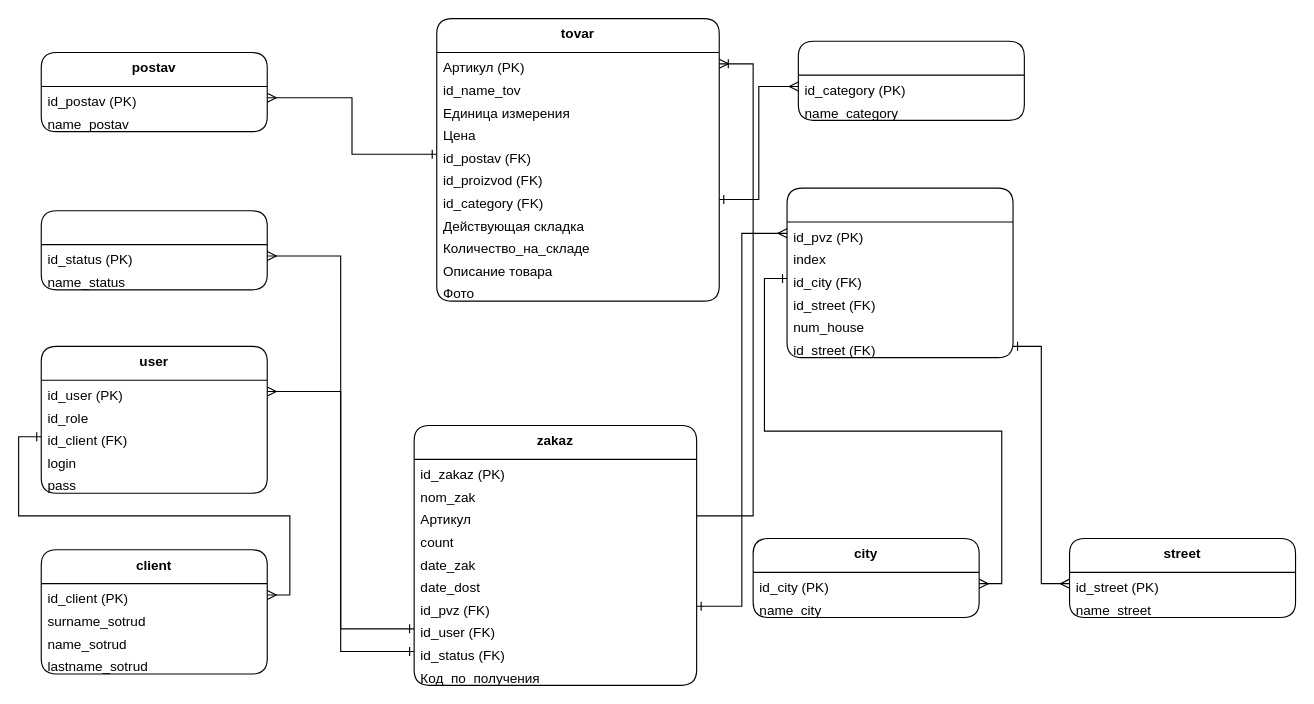
This 1314x704 diagram has some shape labels left out. Here are the shapes that lost their labels. From the top down, the box of each, then its label:
(797, 40, 1024, 120): category_tov
(40, 210, 267, 290): status_zakaza
(786, 187, 1013, 358): adress_pvz
